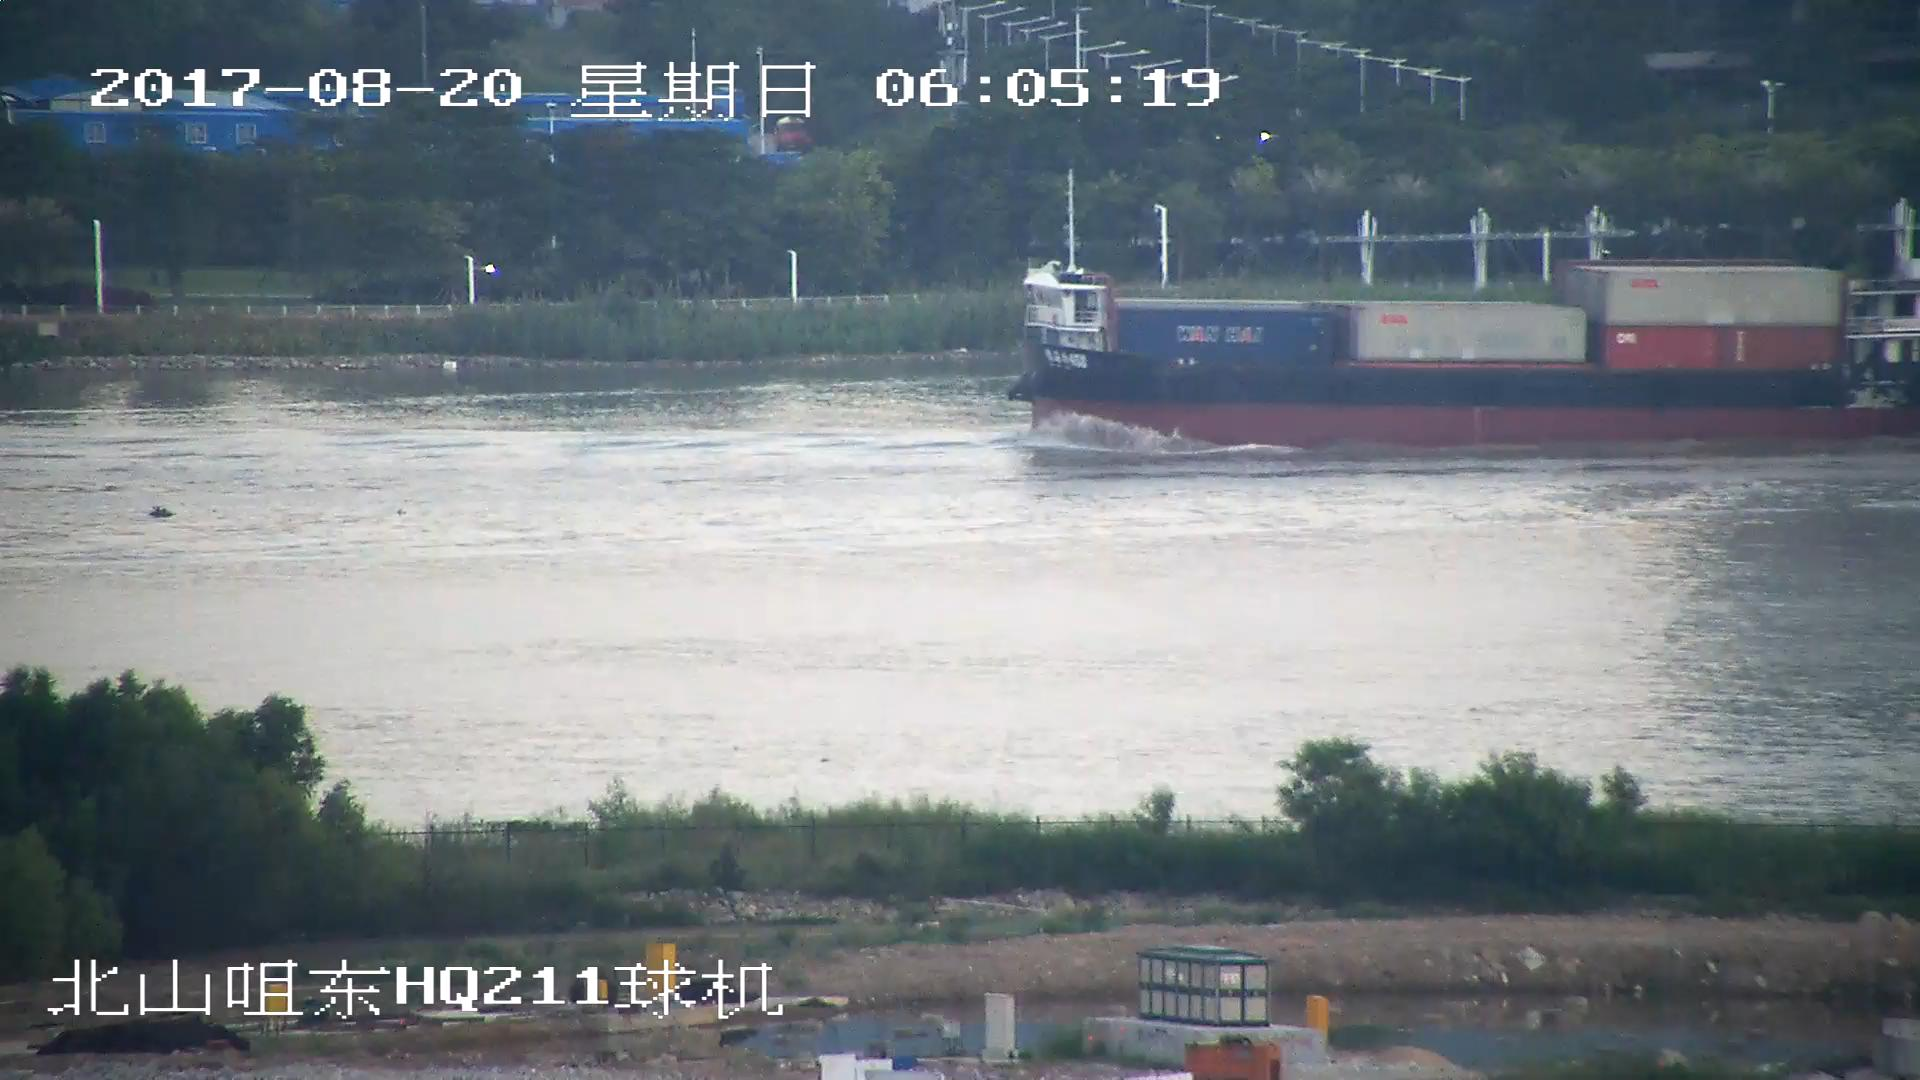container ship: (1020, 173, 1920, 450)
